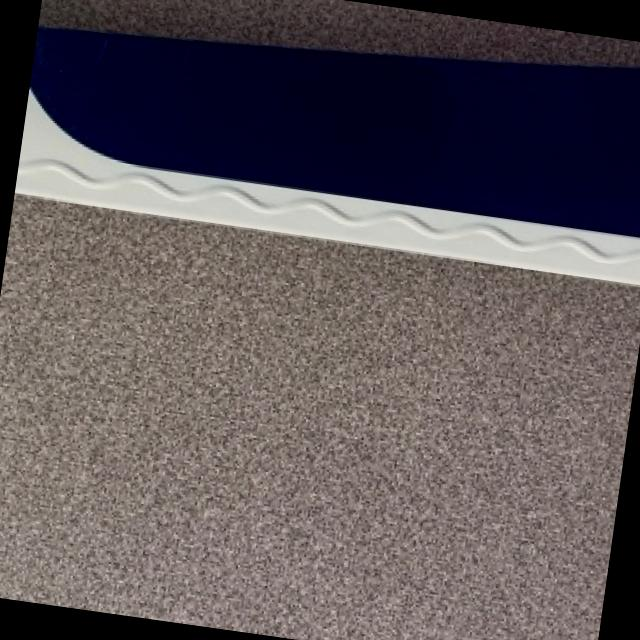healthy: (17, 26, 640, 281)
